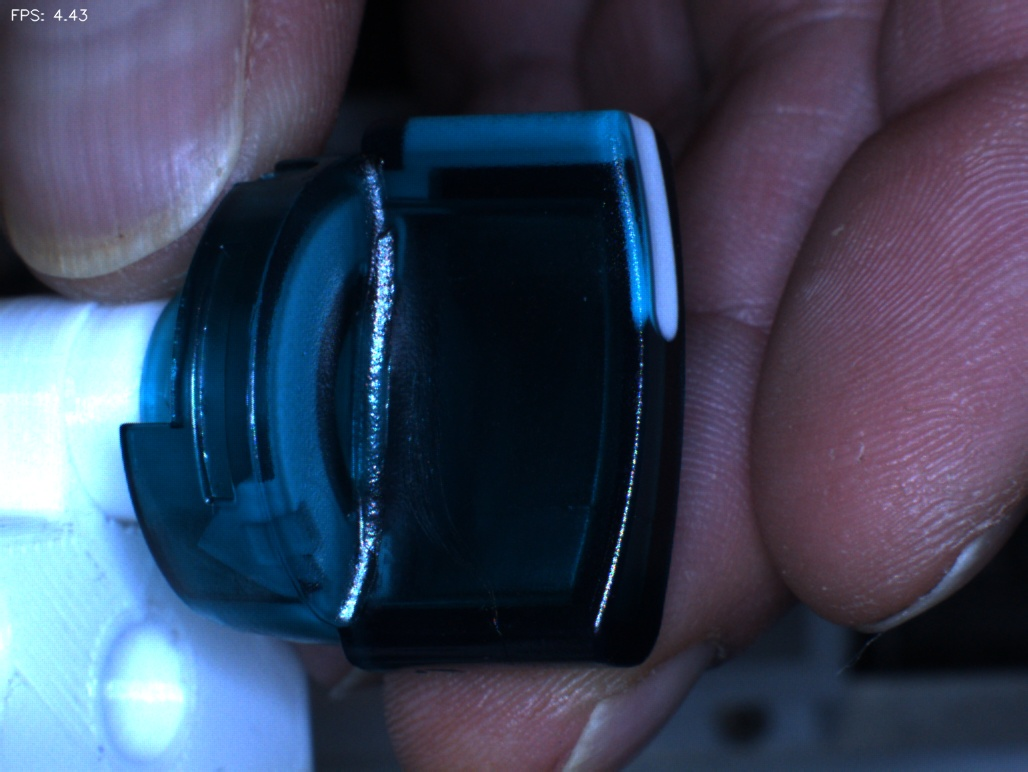Givrage: (389, 367, 513, 628)
